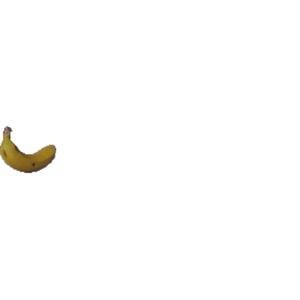banana: (2, 124, 61, 178)
